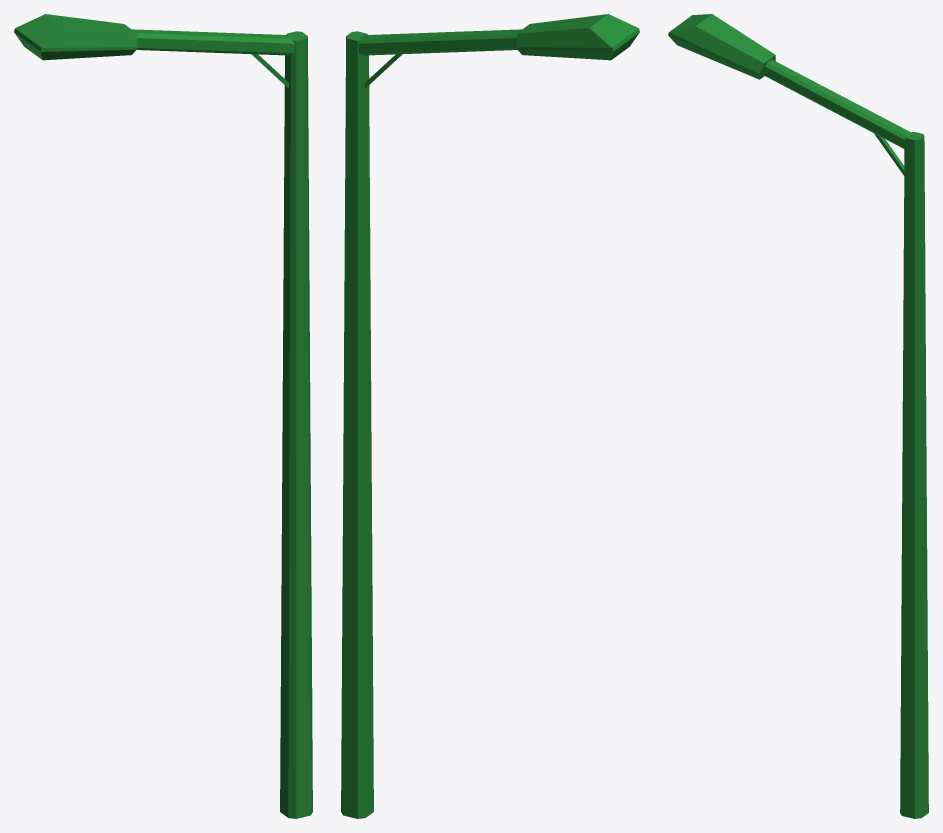
Rendered from Street Light.fbx.
3 views of the same model, side by side, from view 1: azimuth 30°, elevation 25°; view 2: azimuth 150°, elevation 25°; view 3: azimuth 330°, elevation 25° (orthographic). The views are drawn at different scales.
Parts seen in each view (by area): view 1: StreetLight; view 2: StreetLight; view 3: StreetLight.
Boxes of the visible parts, x1,y1,x2,y2 form: StreetLight: [14, 14, 312, 818]; StreetLight: [341, 14, 639, 818]; StreetLight: [668, 14, 928, 818].
Bounding box in the file's own units: 283 × 817 × 46.92.
